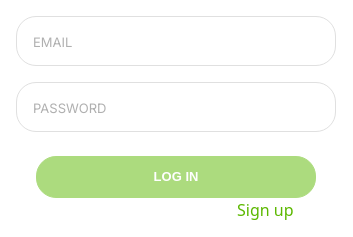
Test case: SignInForm › should keep submit button enabled when both fields are filled
In the field with placeholder "Email": {"x": 176, "y": 41} [16,16,336,66], type "test@example.com"
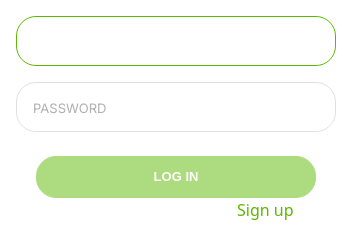
In the password field with placeholder "Password": {"x": 176, "y": 107} [16,82,336,132], type "password123"
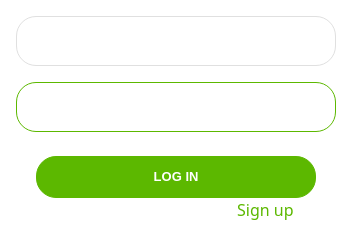
Now the button "Log In" is enabled, box [36,156,316,198]
